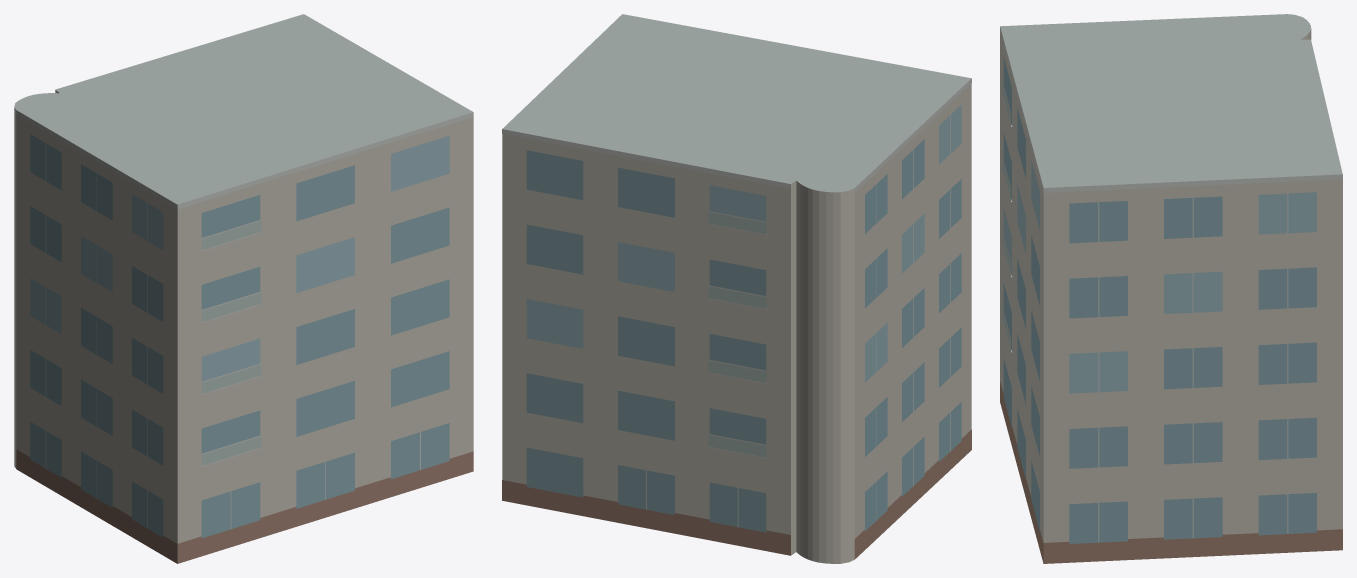
Rendered from survey-upis-32487283.glb.
3 renders of one model, left to right at view 1: azimuth 30°, elevation 25°; view 2: azimuth 150°, elevation 25°; view 3: azimuth 270°, elevation 25°, orthographic. The views are drawn at different scales.
Visible parts, largest first — view 1: survey-upis-32487283.tmp; view 2: survey-upis-32487283.tmp; view 3: survey-upis-32487283.tmp.
Boxes of the visible parts, x1=… form: survey-upis-32487283.tmp: x1=14, y1=14, x2=473, y2=563; survey-upis-32487283.tmp: x1=502, y1=14, x2=971, y2=563; survey-upis-32487283.tmp: x1=1000, y1=14, x2=1342, y2=563.
Bounding box in the file's own units: 18.44 × 18.56 × 15.35.
